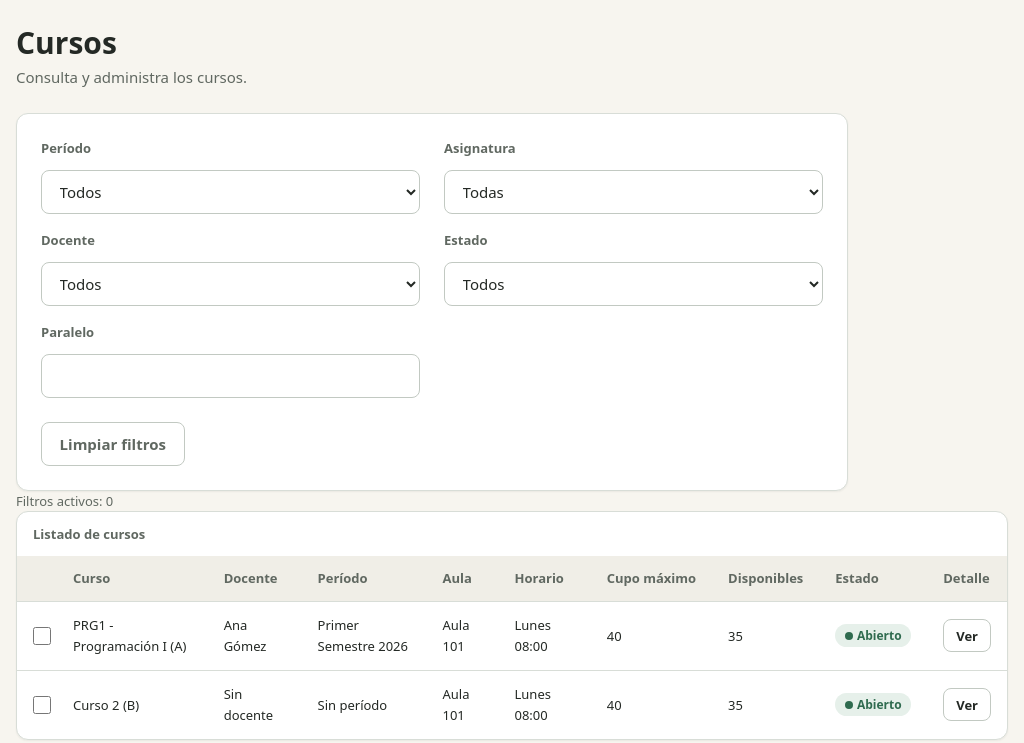
it: ListadoCursosComponent › roles no administradores solo ven Ver en la barra contextual
Click the cell "PRG1 - Programación I (A)": (132, 636) [57,601,208,670]
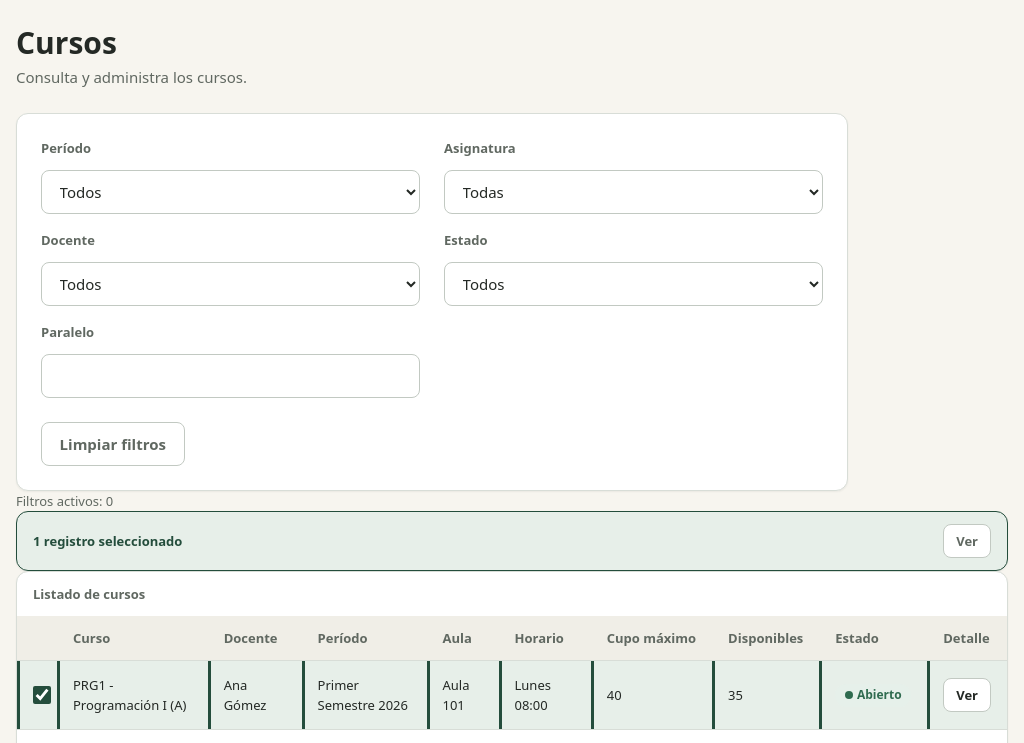
Now the button "Ver" is shown, box [943,524,991,558]
